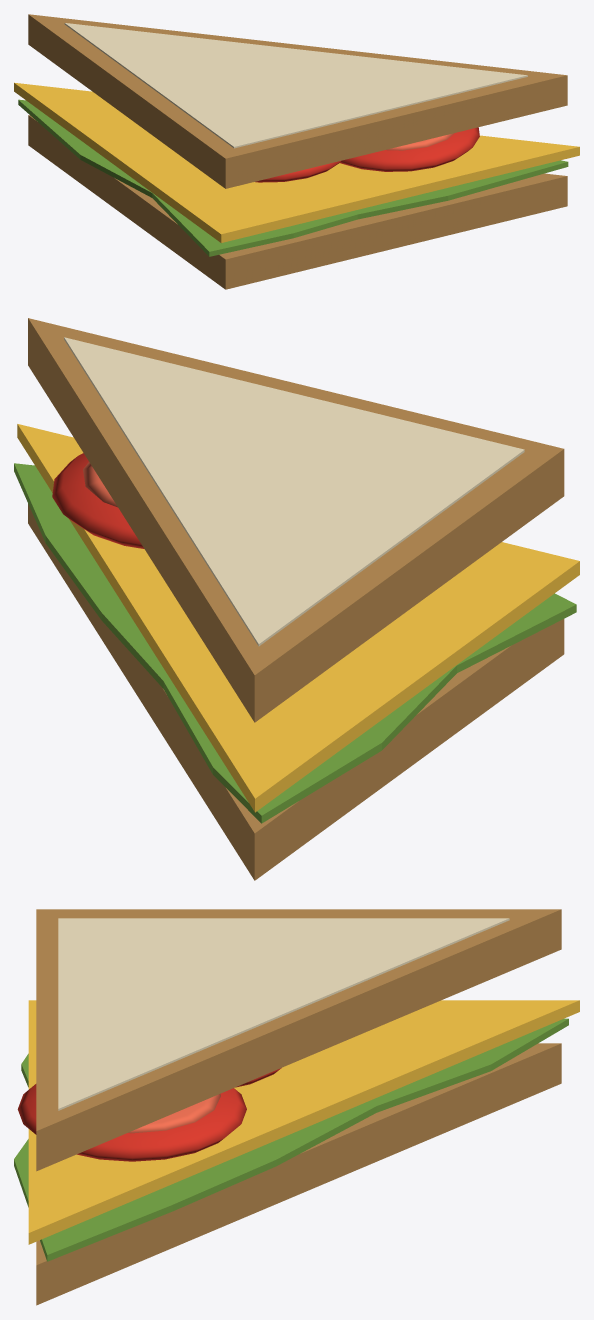
Rendered from food_sandwich.glb.
The picture shows the model from 3 angles, top to bottom: view 1: azimuth 30°, elevation 25°; view 2: azimuth 150°, elevation 25°; view 3: azimuth 270°, elevation 25°; orthographic projection. The views are drawn at different scales.
Parts seen in each view (by area): view 1: Bread crumb slice 2, Bread crust slice 2, Cheese slice, Bread crust slice 1, Wavy lettuce leaf, Tomato slice.001, Tomato slice, Tomato inner flesh.001; view 2: Bread crumb slice 2, Bread crust slice 2, Cheese slice, Bread crust slice 1, Wavy lettuce leaf, Tomato slice.001; view 3: Bread crumb slice 2, Bread crust slice 2, Cheese slice, Bread crust slice 1, Wavy lettuce leaf, Tomato slice.001, Tomato inner flesh.001.
Boxes of the visible parts, box(x1,y1,x2,y2) form: Bread crumb slice 2: box(64, 23, 527, 148); Bread crust slice 2: box(28, 14, 567, 188); Cheese slice: box(14, 82, 579, 242); Bread crust slice 1: box(28, 115, 567, 289); Wavy lettuce leaf: box(18, 99, 568, 256); Tomato slice.001: box(340, 127, 479, 171); Tomato slice: box(255, 161, 340, 182); Tomato inner flesh.001: box(386, 133, 454, 150); Bread crumb slice 2: box(64, 337, 524, 646); Bread crust slice 2: box(28, 318, 564, 722); Cheese slice: box(17, 424, 579, 812); Bread crust slice 1: box(28, 503, 564, 880); Wavy lettuce leaf: box(14, 463, 576, 823); Tomato slice.001: box(52, 453, 143, 548); Bread crumb slice 2: box(58, 918, 509, 1110); Bread crust slice 2: box(36, 909, 561, 1171); Cheese slice: box(28, 1000, 579, 1244); Bread crust slice 1: box(36, 1043, 561, 1305); Wavy lettuce leaf: box(14, 1018, 568, 1261); Tomato slice.001: box(17, 1084, 246, 1161); Tomato inner flesh.001: box(128, 1094, 220, 1133).
Size of the model in its own units: 0.152 by 0.0526 by 0.153.
